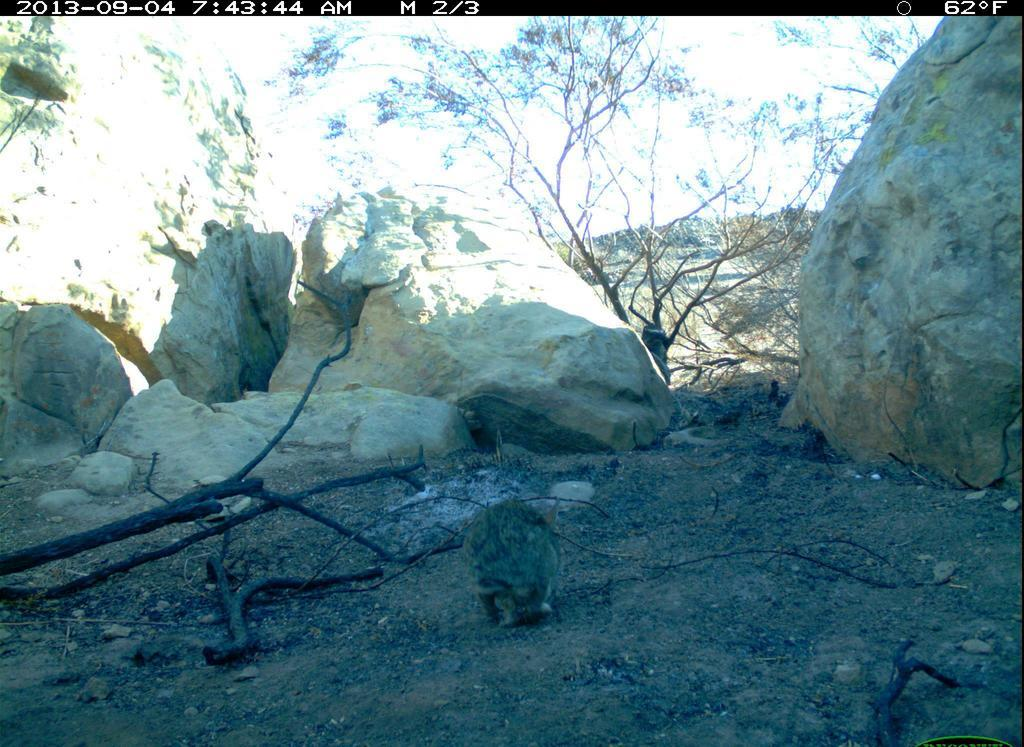rabbit: (459, 483, 577, 632)
